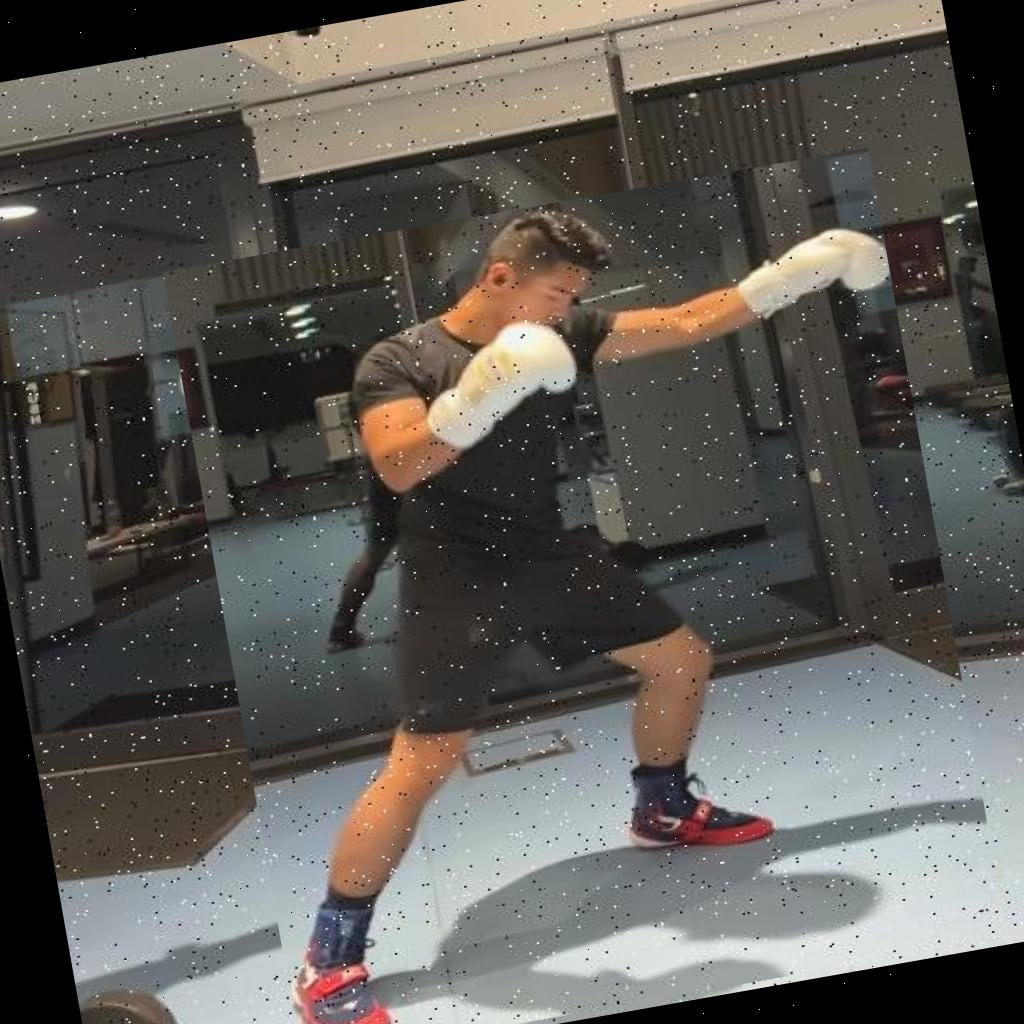jab: (163, 147, 1007, 1024)
